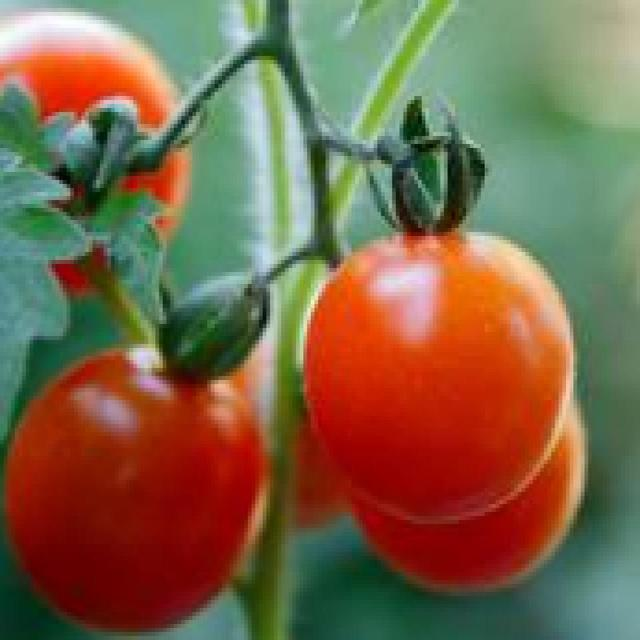Healthy Fruit: (66, 97, 314, 334)
